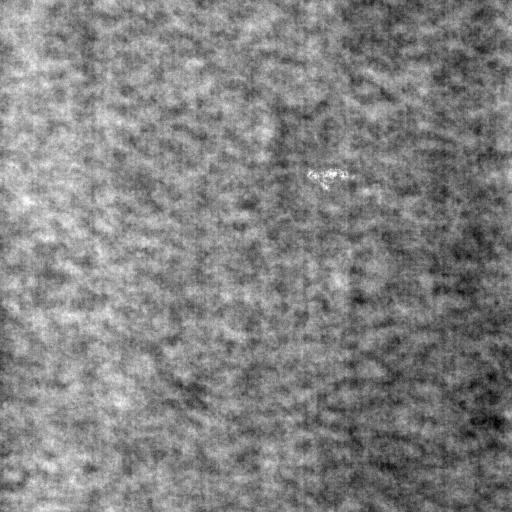DefectTypeA: (306, 165, 349, 186)
